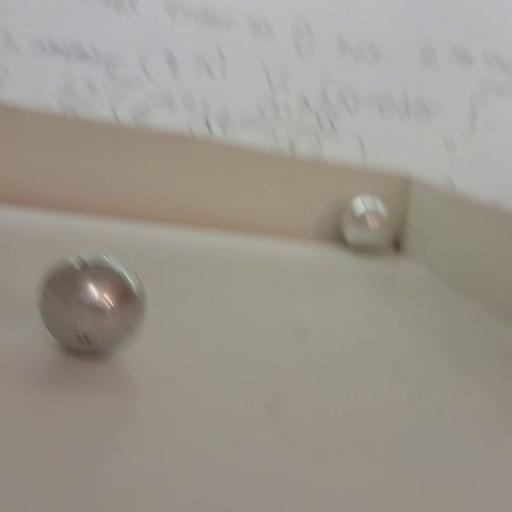alive: (38, 250, 146, 358), (339, 194, 396, 251)
